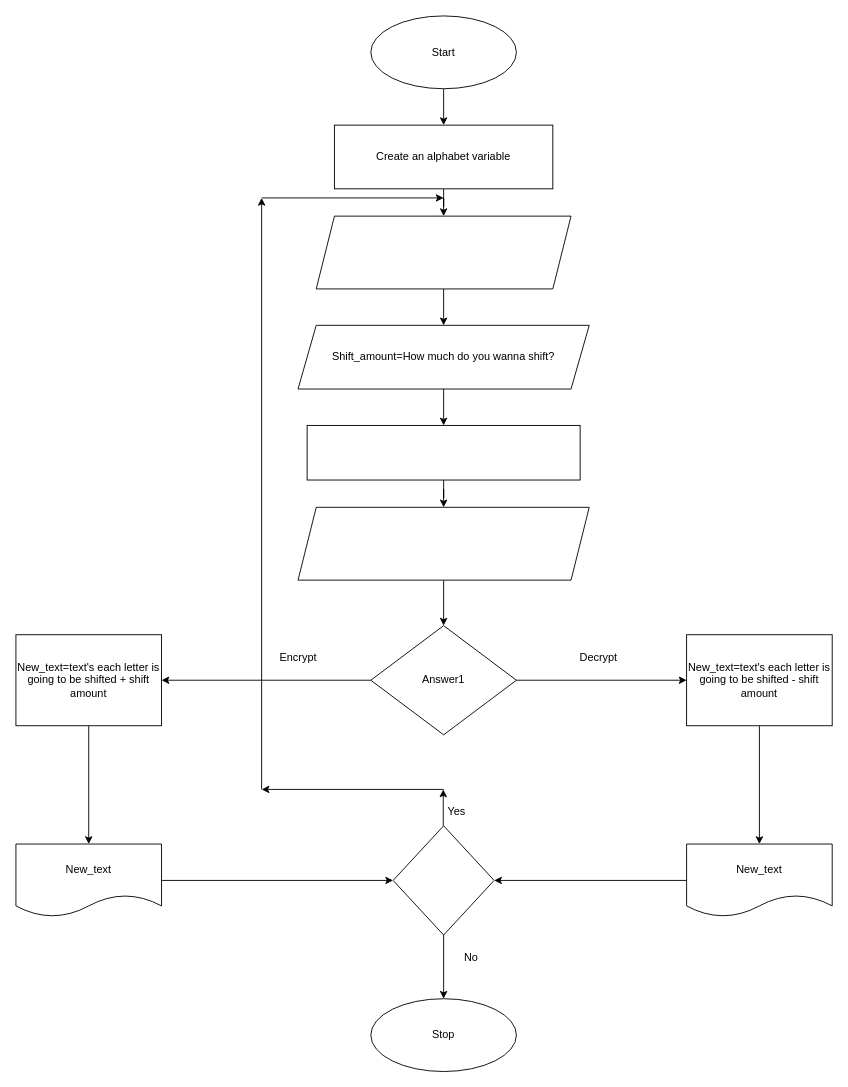
This 848x1087 diagram has some shape labels left out. The box of each missing label's shape, as (x1, y1, x2, y2) in pixels:
Do you want to restart program?: (392, 825, 494, 935)
operation=Ask user "Which one do you want to do Encrypt or decrypt?": (315, 215, 571, 289)
shift_amount=shift_amount%len(alphabet): (306, 425, 580, 480)
text=What do you want to do encrypt or decrypt: (297, 506, 589, 580)
